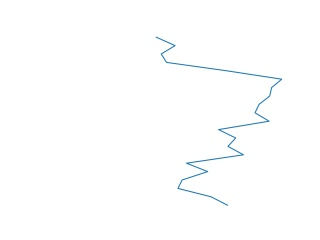floodPlain: (154, 35, 285, 209)
